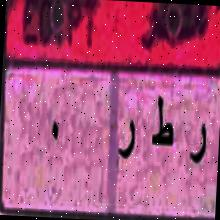0: (39, 111, 68, 157)
Taa: (146, 92, 176, 160)
raa: (182, 113, 212, 172), (114, 115, 143, 176)
